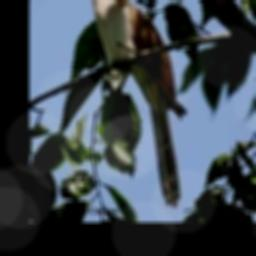Cuckoo: (75, 0, 186, 207)
